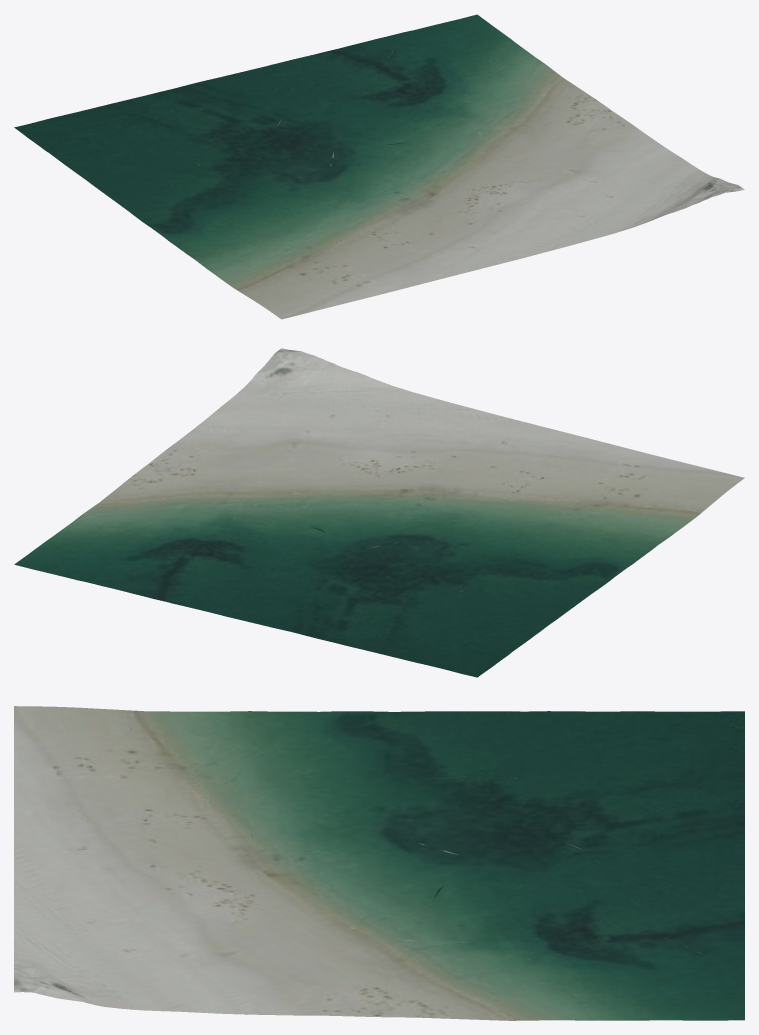
The picture shows the model from 3 angles, top to bottom: view 1: azimuth 30°, elevation 25°; view 2: azimuth 150°, elevation 25°; view 3: azimuth 270°, elevation 25°; orthographic projection. The views are drawn at different scales.
Bounding box in the file's own units: 209 × 9.96 × 209.
Materials: 2 (2 with a texture image).
